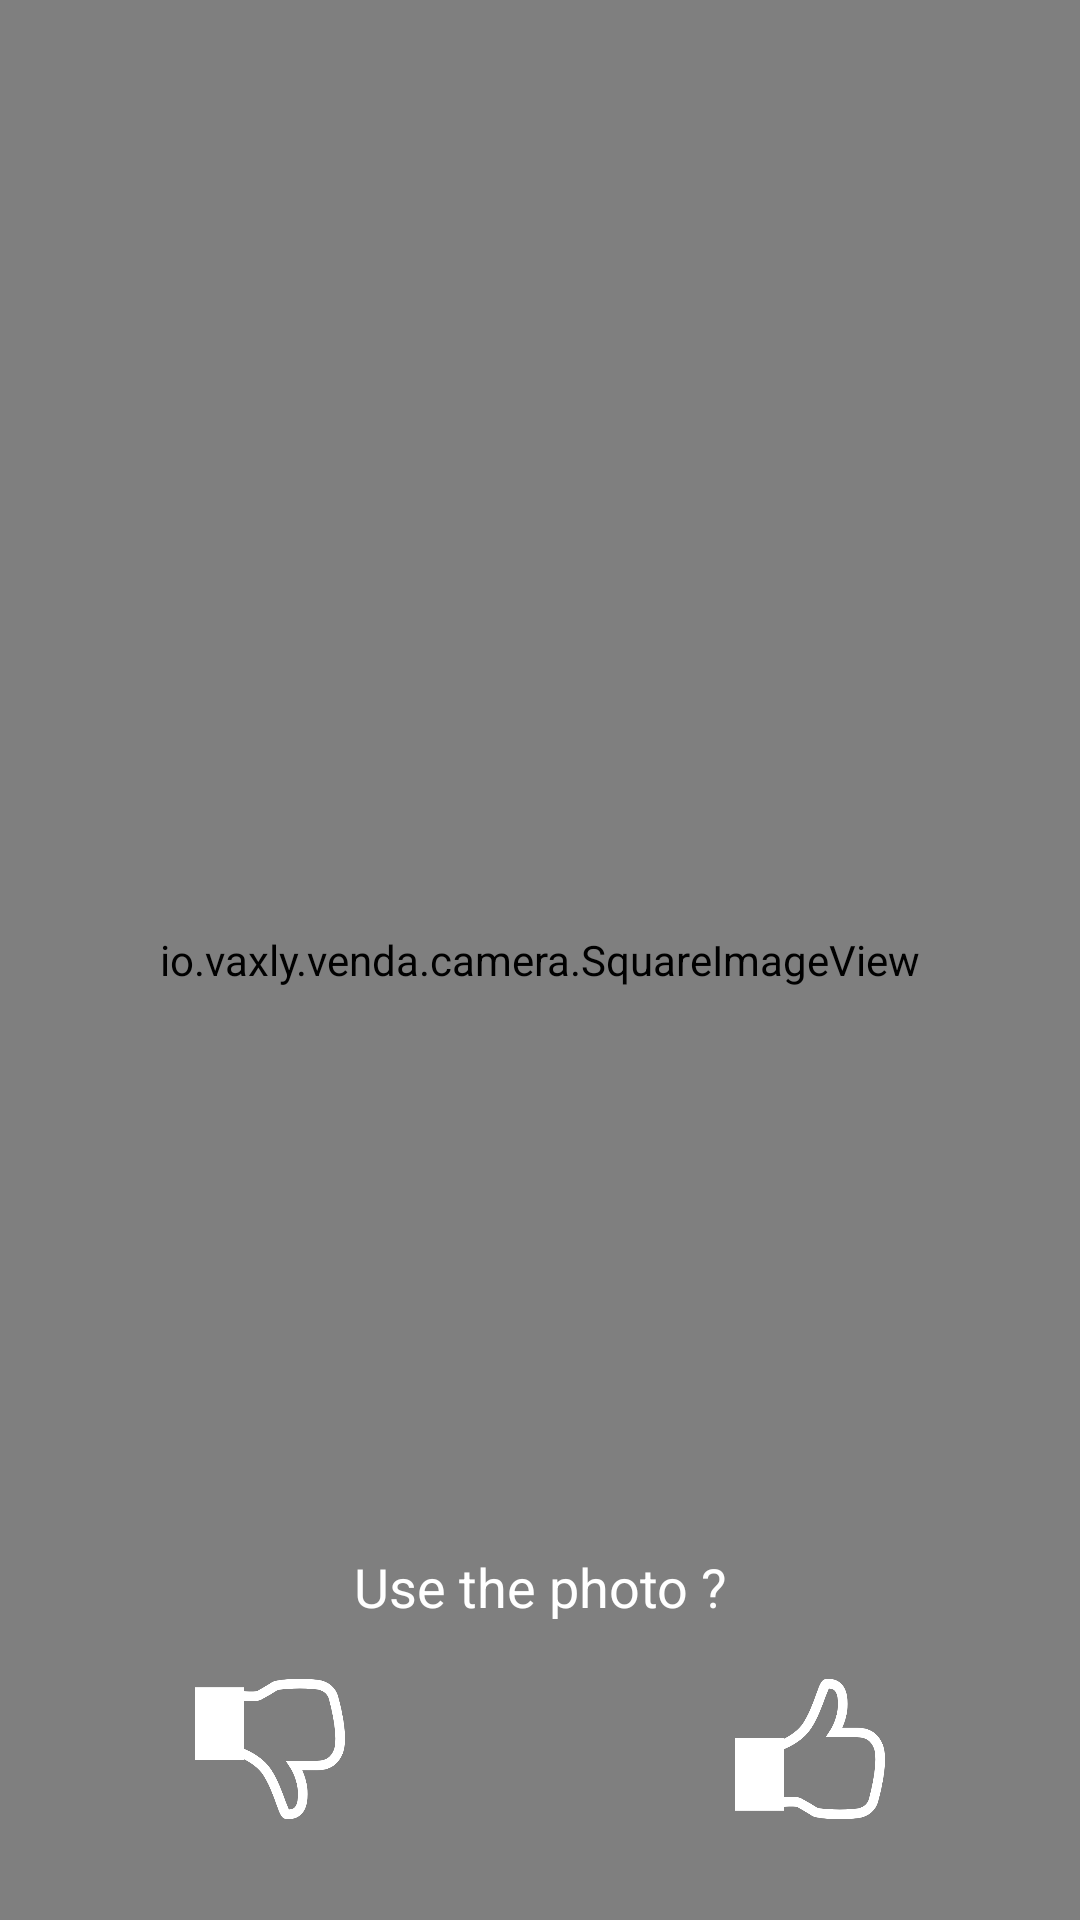

Named icons in this screenshot (1080w x 1920h) and their centers, point (x, y):
dislike: point (270, 1749)
like: point (810, 1749)
